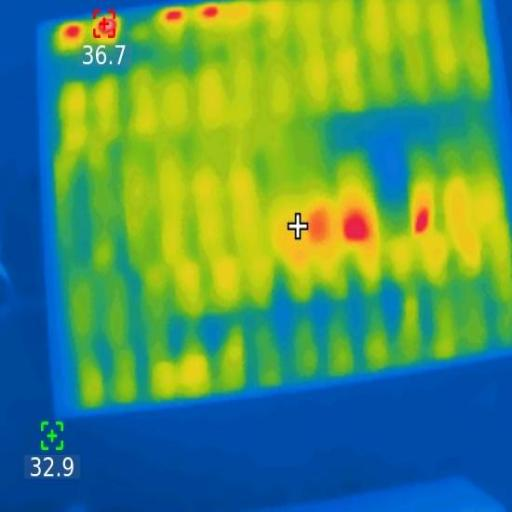hotspot: (342, 205, 372, 242), (89, 11, 121, 39), (308, 207, 327, 250), (413, 206, 431, 239), (62, 19, 86, 43), (161, 11, 188, 27), (200, 6, 222, 21)
